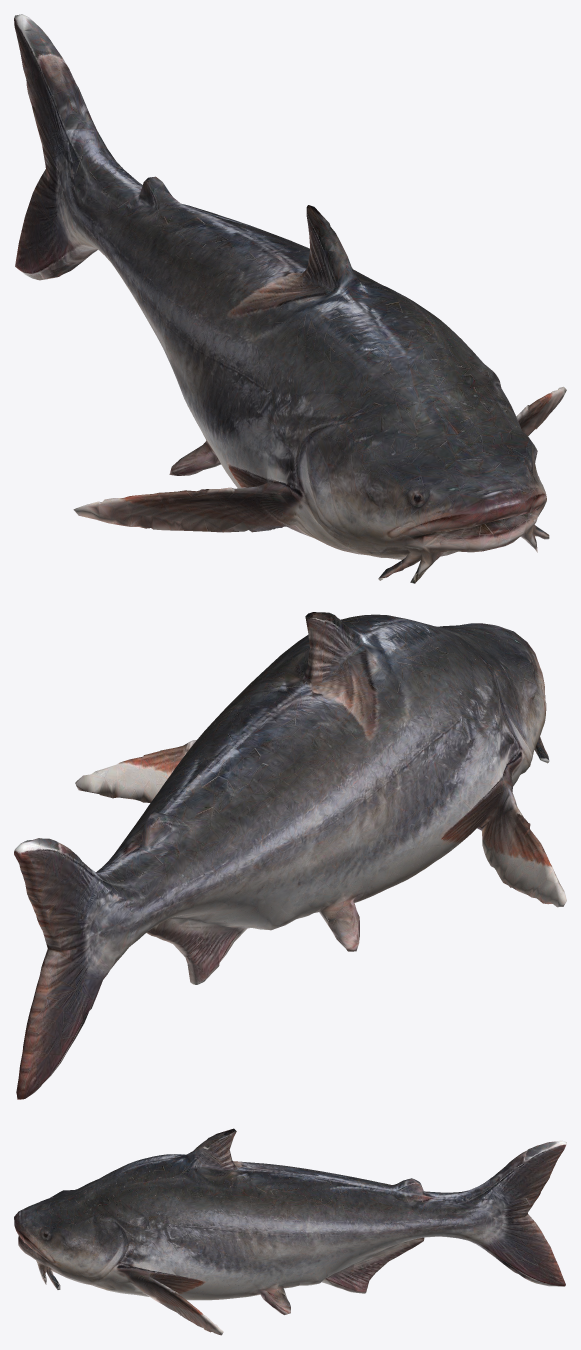
File: fish_mekong.glb
The picture shows the model from 3 angles, top to bottom: view 1: azimuth 30°, elevation 25°; view 2: azimuth 150°, elevation 25°; view 3: azimuth 270°, elevation 25°; orthographic projection. The views are drawn at different scales.
Parts seen in each view (by area): view 1: geometry_0; view 2: geometry_0; view 3: geometry_0.
Boxes of the visible parts, x1=… form: geometry_0: x1=14, y1=14, x2=566, y2=583; geometry_0: x1=14, y1=612, x2=566, y2=1099; geometry_0: x1=14, y1=1128, x2=566, y2=1335.
Bounding box in the file's own units: 1.15 × 0.6424 × 1.96.
1 material, 1 textured.
